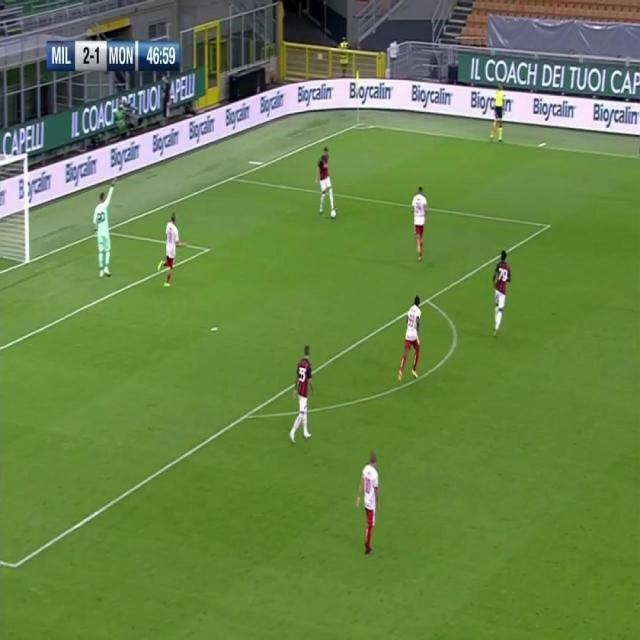ball: (330, 209, 337, 222)
goalkeeper: (93, 187, 115, 281)
player: (287, 345, 317, 445), (355, 450, 382, 556), (397, 294, 425, 385), (490, 247, 512, 340), (158, 211, 182, 291), (315, 145, 338, 219), (412, 184, 429, 264)
referee: (489, 82, 506, 144)
